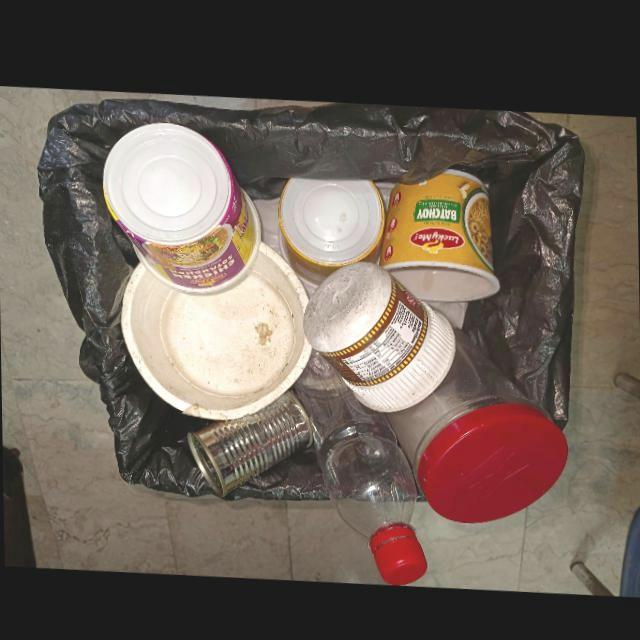aluminum: (187, 379, 320, 495)
plastic_bottle: (291, 344, 427, 579)
plastic_container: (120, 199, 312, 416), (381, 320, 568, 515), (101, 118, 260, 292), (303, 255, 453, 405), (377, 160, 500, 294), (277, 172, 385, 276)
